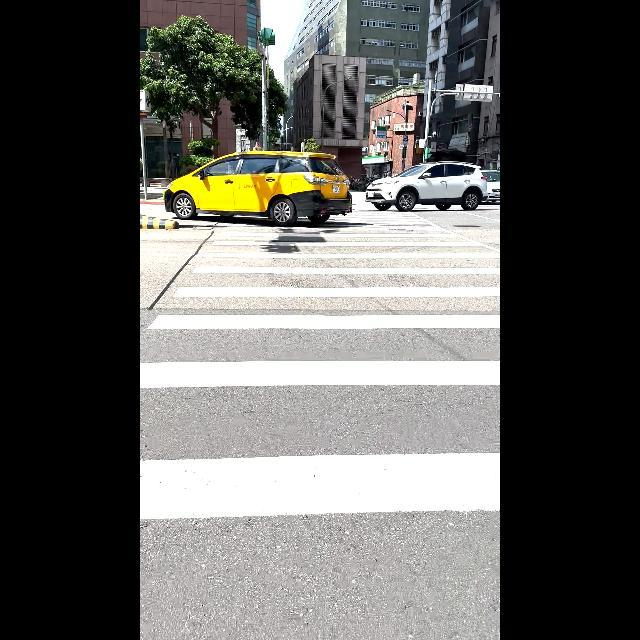sidewalk: (140, 220, 500, 640)
